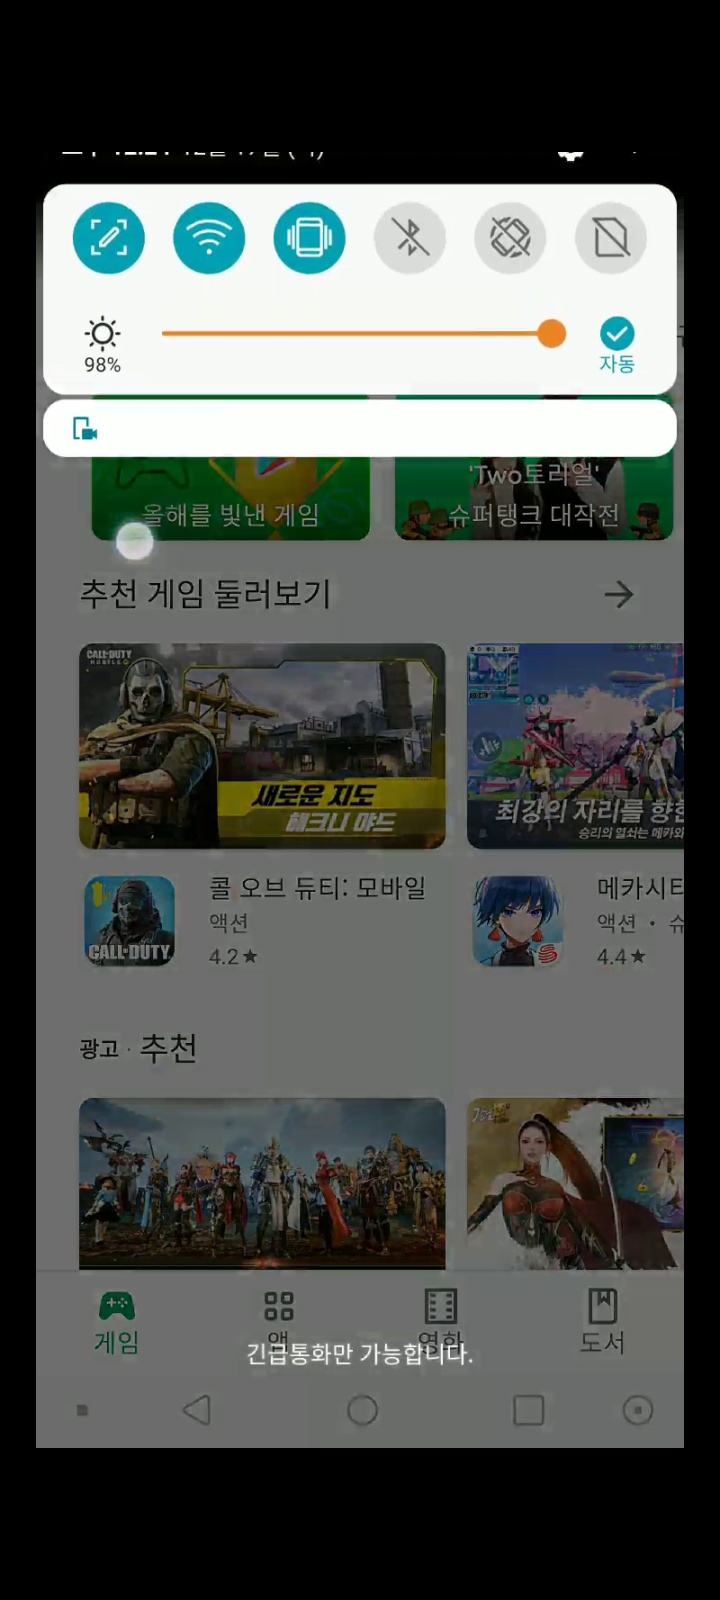Cursor: (113, 520, 158, 565)
